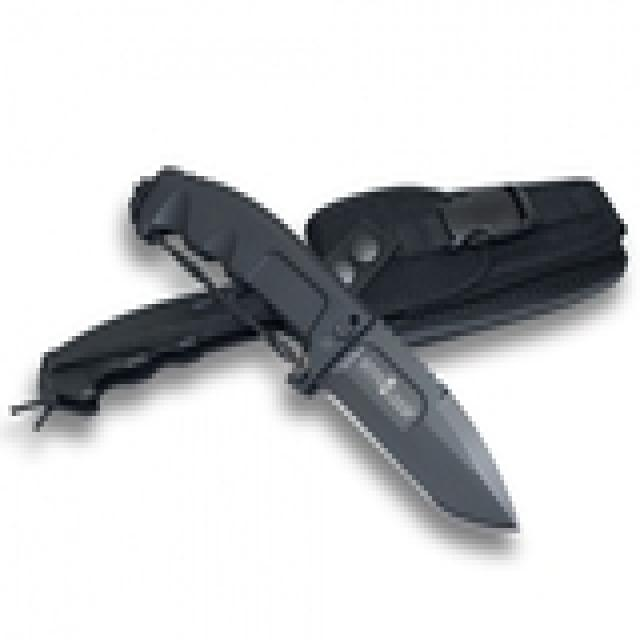Knife: (128, 146, 522, 538)
